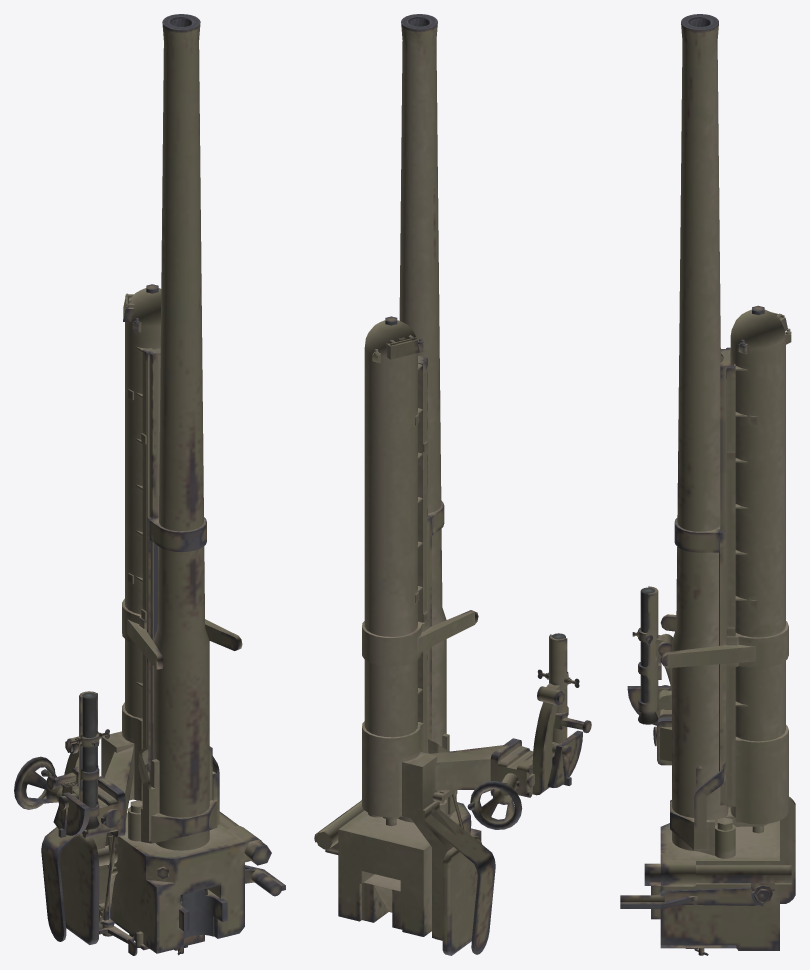
The model's file is Gun_03.glb.
3 renders of one model, left to right at view 1: azimuth 30°, elevation 25°; view 2: azimuth 150°, elevation 25°; view 3: azimuth 270°, elevation 25°, orthographic. The views are drawn at different scales.
Parts seen in each view (by area): view 1: set_0_group_0; view 2: set_0_group_0; view 3: set_0_group_0.
Part boxes in pixels (bbox=[...]): set_0_group_0: bbox=[14, 14, 285, 955]; set_0_group_0: bbox=[314, 14, 591, 955]; set_0_group_0: bbox=[620, 14, 795, 955].
Size of the model in its own units: 0.6624 by 2.69 by 0.4593.
Materials: 1 (1 with a texture image).
